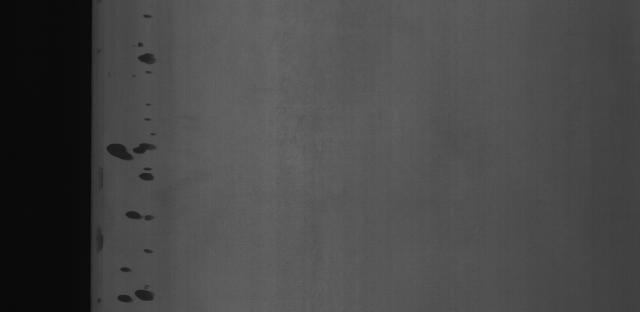oil_spot: (102, 129, 159, 168), (109, 282, 164, 312), (127, 38, 158, 71), (132, 164, 164, 187), (123, 206, 163, 224), (96, 221, 107, 246), (139, 241, 158, 254), (120, 263, 136, 274)
